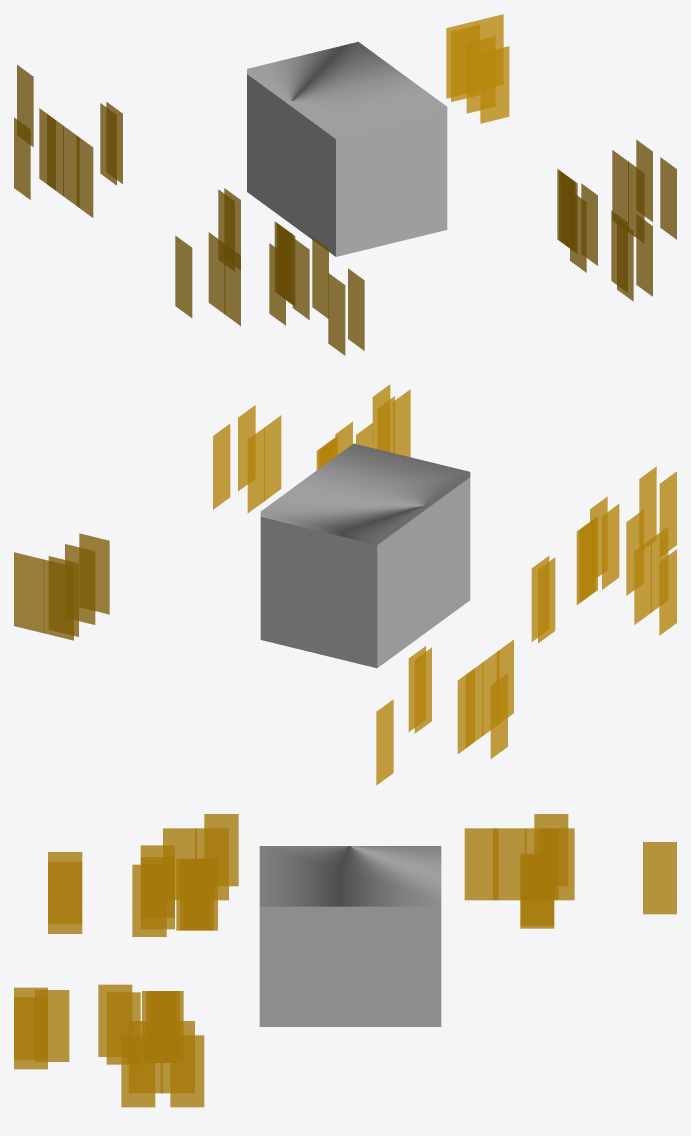
The picture shows the model from 3 angles, top to bottom: view 1: azimuth 30°, elevation 25°; view 2: azimuth 150°, elevation 25°; view 3: azimuth 270°, elevation 25°; orthographic projection. The views are drawn at different scales.
Visible parts, largest first — view 1: doors, walls, roof; view 2: doors, walls, roof; view 3: doors, walls, roof.
Boxes of the visible parts, <box> form: doors: <box>14,14,676,355</box>; walls: <box>247,74,447,256</box>; roof: <box>247,41,447,138</box>; doors: <box>14,384,676,785</box>; walls: <box>260,477,470,668</box>; roof: <box>260,443,470,544</box>; doors: <box>14,814,676,1107</box>; walls: <box>259,906,441,1026</box>; roof: <box>259,846,441,906</box>.
Bounding box in the file's own units: 14.7 × 3.65 × 17.48.
